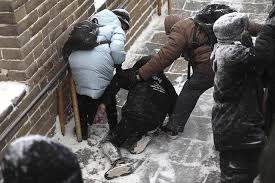fall: (102, 52, 177, 151)
